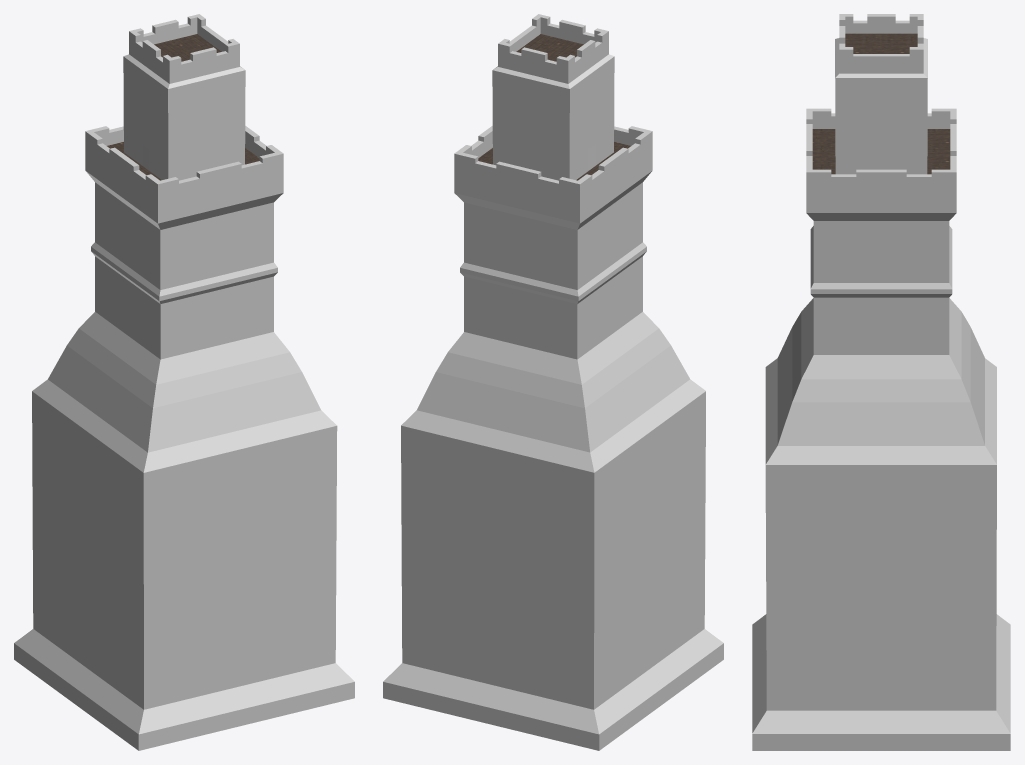
File: Tower-6.fbx
3 views of the same model, side by side, from view 1: azimuth 30°, elevation 25°; view 2: azimuth 150°, elevation 25°; view 3: azimuth 270°, elevation 25° (orthographic). The views are drawn at different scales.
Parts seen in each view (by area): view 1: VezaKocka; view 2: VezaKocka; view 3: VezaKocka.
Part boxes in pixels (x1=…): VezaKocka: x1=14, y1=14, x2=354, y2=750; VezaKocka: x1=383, y1=14, x2=723, y2=750; VezaKocka: x1=752, y1=14, x2=1010, y2=750.
Bounding box in the file's own units: 1754 × 4976 × 1754.
